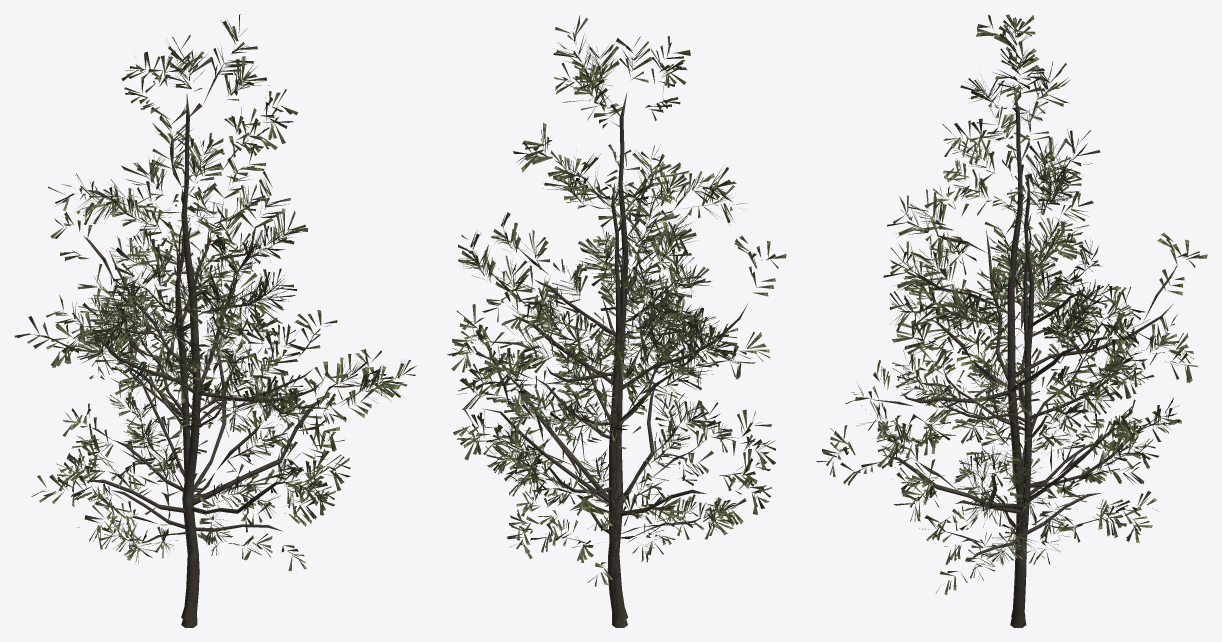
The model's file is pine_saplings.glb.
3 views of the same model, side by side, from view 1: azimuth 30°, elevation 25°; view 2: azimuth 150°, elevation 25°; view 3: azimuth 270°, elevation 25° (orthographic).
Parts seen in each view (by area): view 1: pine_sapling_small_a, pine_sapling_small_b, pine_sapling_small_c; view 2: pine_sapling_small_a, pine_sapling_small_b, pine_sapling_small_c; view 3: pine_sapling_small_a, pine_sapling_small_b, pine_sapling_small_c.
Part boxes in pixels (bbox=[...]): pine_sapling_small_a: bbox=[14, 14, 416, 627]; pine_sapling_small_b: bbox=[46, 131, 339, 620]; pine_sapling_small_c: bbox=[57, 185, 334, 571]; pine_sapling_small_a: bbox=[447, 15, 786, 627]; pine_sapling_small_b: bbox=[482, 144, 738, 620]; pine_sapling_small_c: bbox=[486, 182, 739, 586]; pine_sapling_small_a: bbox=[845, 14, 1207, 627]; pine_sapling_small_b: bbox=[816, 135, 1181, 616]; pine_sapling_small_c: bbox=[892, 174, 1179, 594].
Bounding box in the file's own units: 0.7634 × 1.29 × 0.7677.
2 materials, 2 textured.
